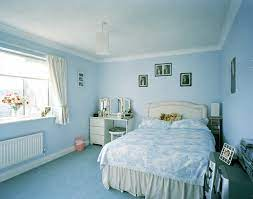Bed: (101, 99, 224, 199)
